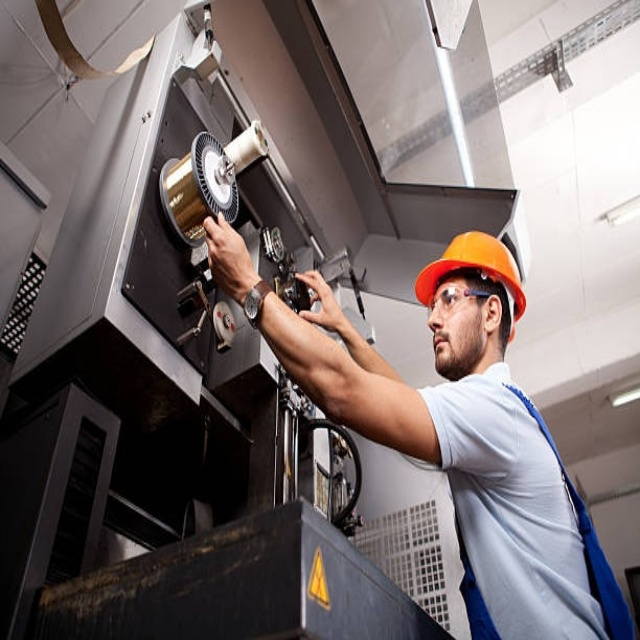Gafas: (428, 285, 492, 320)
Sin_guantes: (201, 211, 258, 298), (294, 262, 346, 334)
Sin_mascara: (431, 325, 455, 362)
